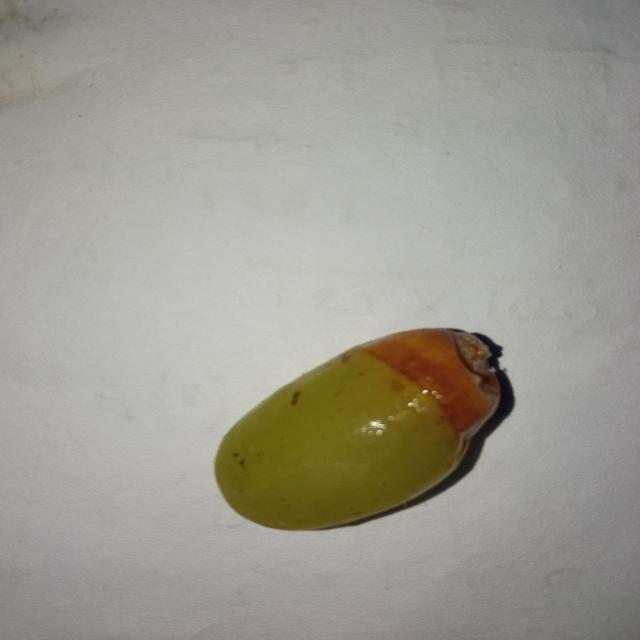rotten_grape: (208, 327, 503, 533)
